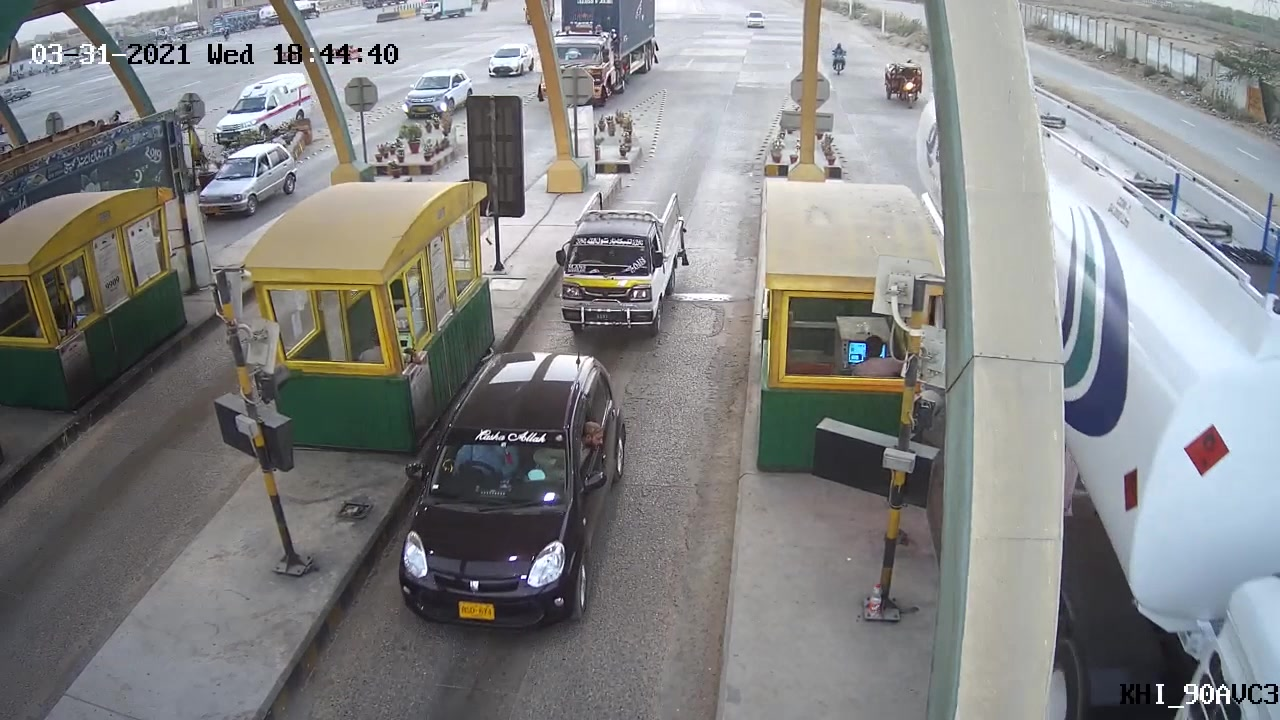F1: (390, 348, 636, 635), (552, 182, 701, 338)
